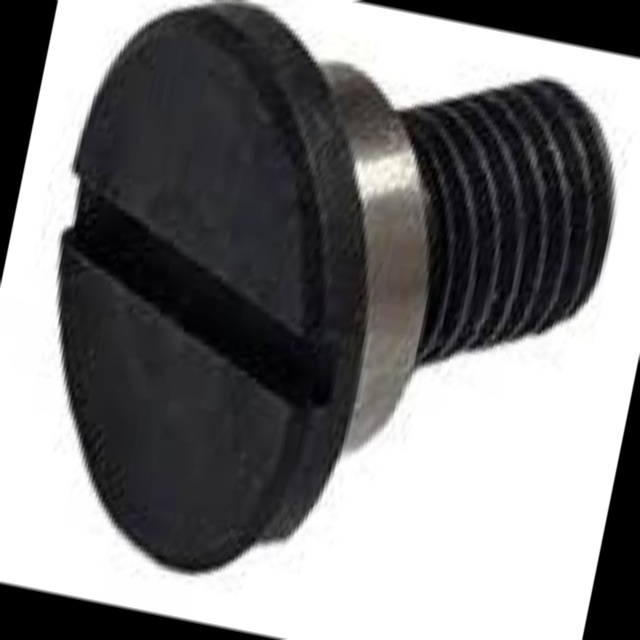duz: (0, 0, 431, 603)
